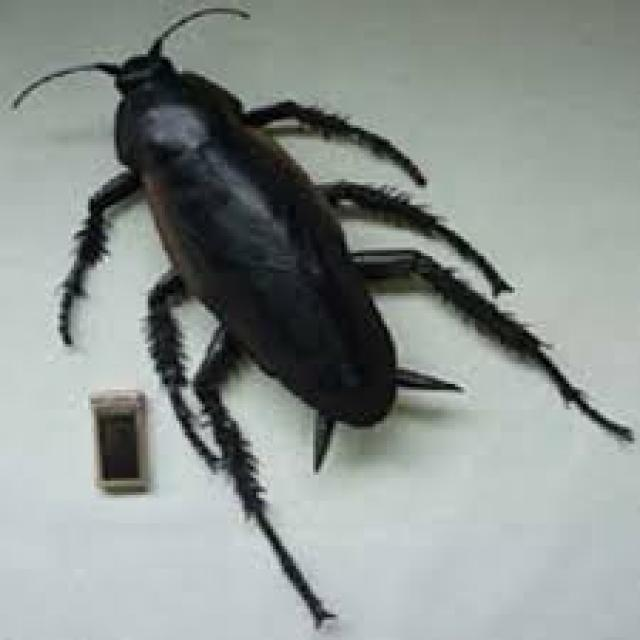Cockroach: (0, 0, 552, 523)
